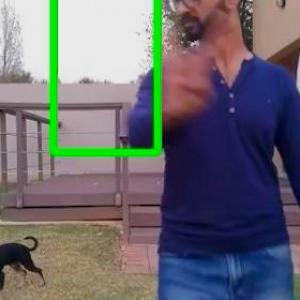takeoff-hand: (158, 24, 220, 116)
